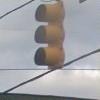Traffic light: (31, 2, 71, 71)
